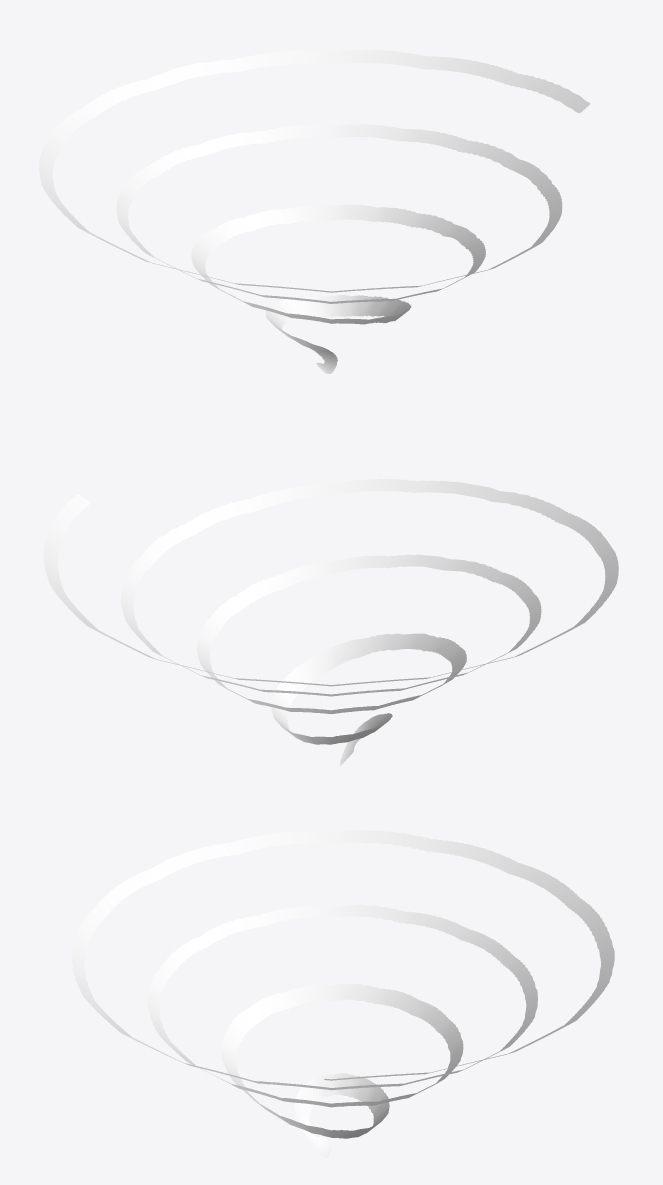
The model's file is stunSpiral.FBX.
The picture shows the model from 3 angles, top to bottom: view 1: azimuth 30°, elevation 25°; view 2: azimuth 150°, elevation 25°; view 3: azimuth 270°, elevation 25°; orthographic projection.
Parts seen in each view (by area): view 1: Cylinder01; view 2: Cylinder01; view 3: Cylinder01.
Part boxes in pixels (x1,y1,x2,y2): Cylinder01: [39, 49, 589, 373]; Cylinder01: [43, 478, 618, 765]; Cylinder01: [71, 830, 614, 1157].
Bounding box in the file's own units: 91.79 × 36.17 × 90.4.
